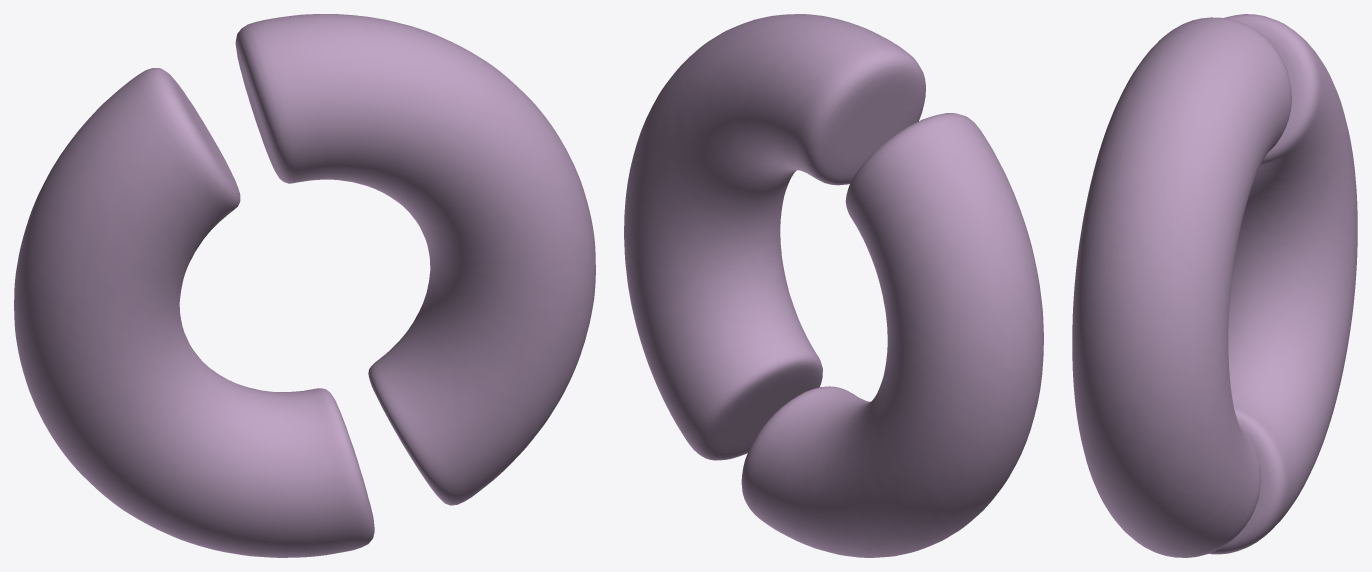
File: pipes.glb
3 renders of one model, left to right at view 1: azimuth 30°, elevation 25°; view 2: azimuth 150°, elevation 25°; view 3: azimuth 270°, elevation 25°, orthographic. The views are drawn at different scales.
Parts seen in each view (by area): view 1: Torus.002; view 2: Torus.002; view 3: Torus.002.
Boxes of the visible parts, box(x1,y1,x2,y2) form: Torus.002: box(14, 14, 595, 557); Torus.002: box(624, 14, 1043, 557); Torus.002: box(1072, 14, 1357, 557).
Size of the model in its own units: 2.52 by 2.62 by 1.35.
